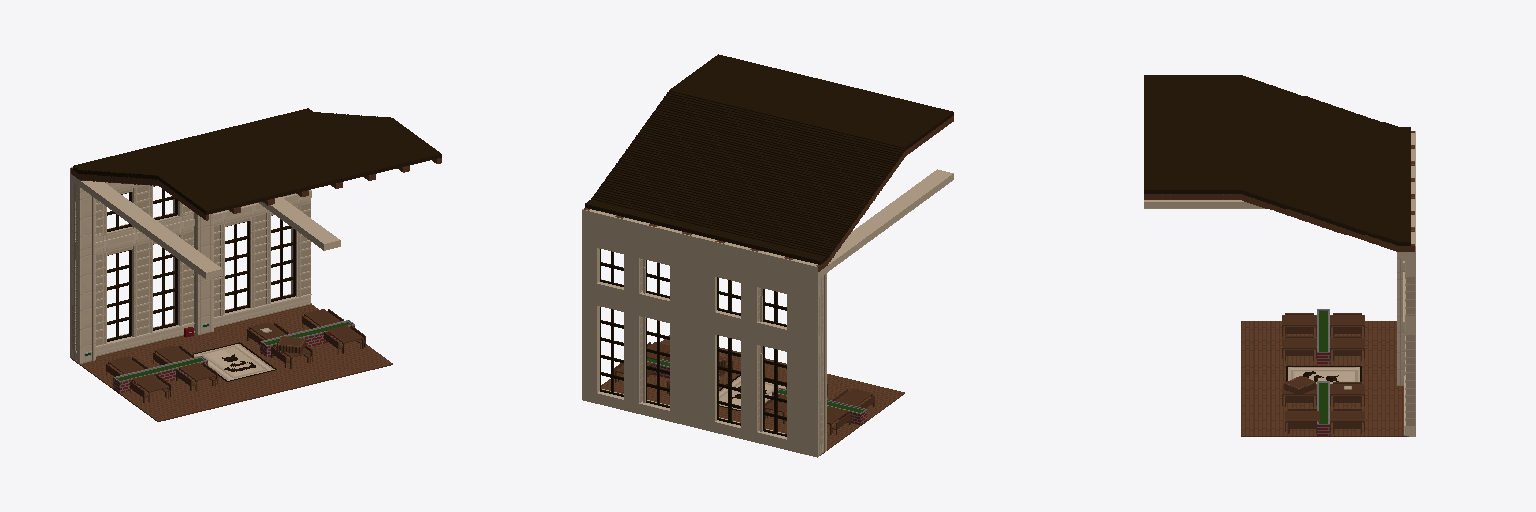
3 renders of one model, left to right at view 1: azimuth 30°, elevation 25°; view 2: azimuth 150°, elevation 25°; view 3: azimuth 270°, elevation 25°, orthographic.
Parts seen in each view (by area): view 1: object 1; view 2: object 1; view 3: object 1.
Part boxes in pixels (bbox=[...]): object 1: bbox=[70, 108, 441, 421]; object 1: bbox=[582, 54, 953, 457]; object 1: bbox=[1144, 75, 1415, 436].
Size of the model in its own units: 25.6 by 25.6 by 25.6.
Materials: 1 (1 with a texture image).